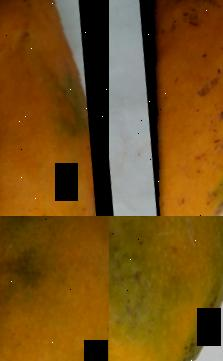PartiallyRipe: (109, 216, 223, 361)
Ripe: (0, 0, 109, 216), (121, 0, 223, 216), (0, 216, 109, 361)
